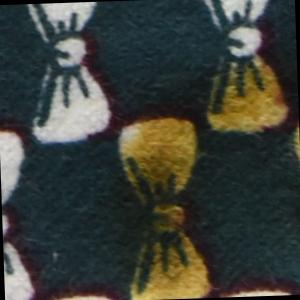Oil Stain: (105, 52, 300, 300)
